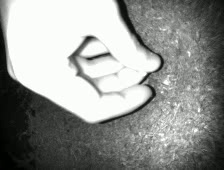corn: (135, 68, 148, 78)
